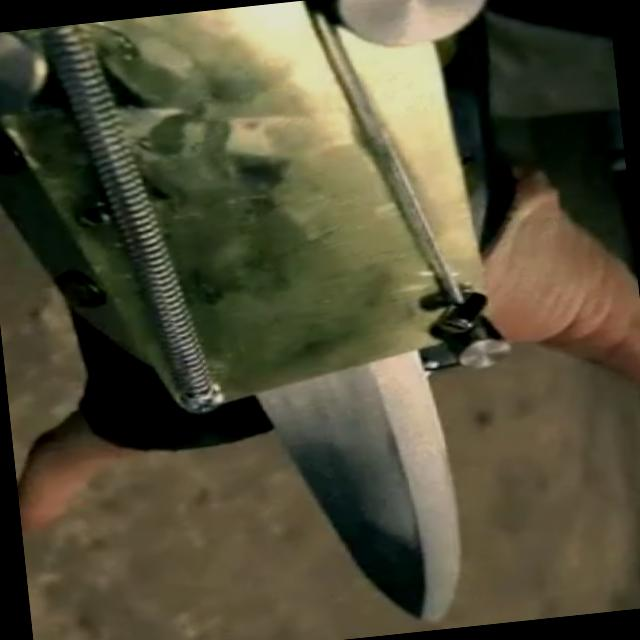knife: (250, 363, 457, 622)
